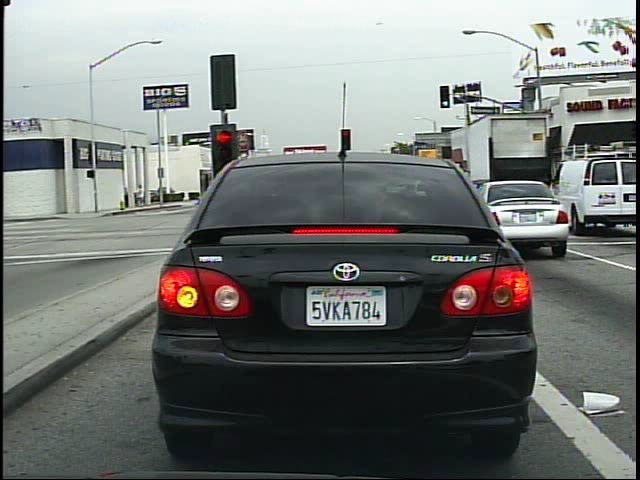person: (517, 169, 532, 202), (134, 182, 148, 211)
